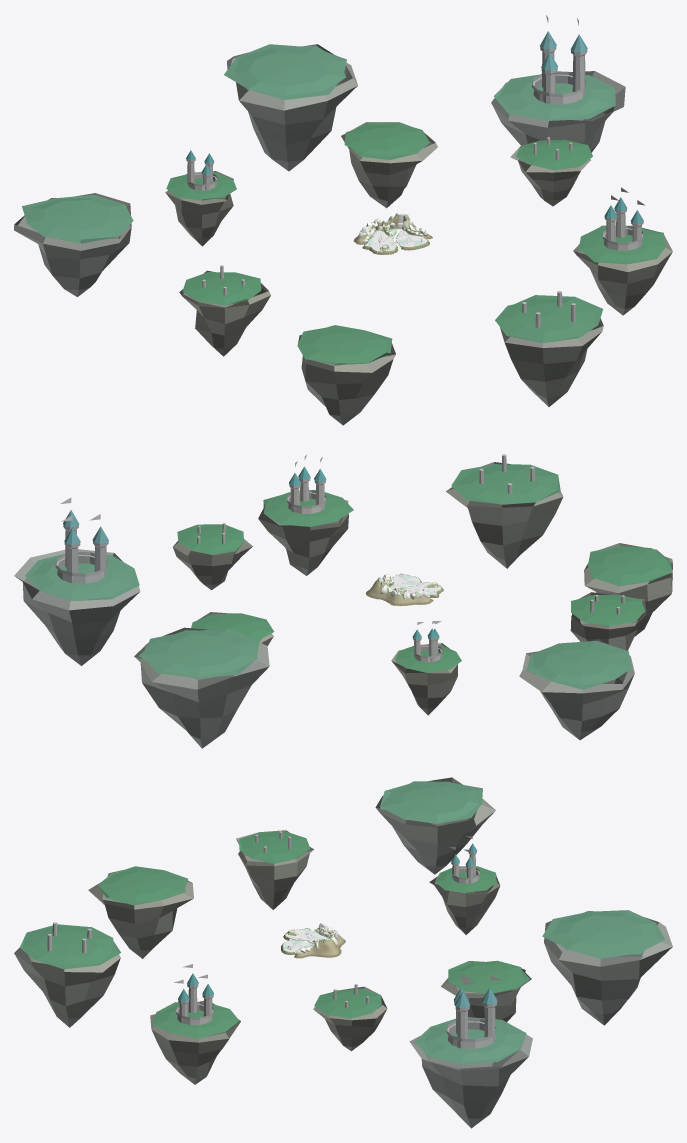
Rendered from world-v7-declutter.fbx.
3 views of the same model, one above another, from view 1: azimuth 30°, elevation 25°; view 2: azimuth 150°, elevation 25°; view 3: azimuth 270°, elevation 25° (orthographic). The views are drawn at different scales.
Parts seen in each view (by area): view 1: W7_Backdrop__far_peak_1, W7_Backdrop__far_peak_2, W7_Backdrop__far_peak_3, W7_Ground__ground, W7_Ground__grass; view 2: W7_Backdrop__far_peak_2, W7_Backdrop__far_peak_1, W7_Backdrop__far_peak_3, W7_Ground__ground, W7_Ground__grass; view 3: W7_Backdrop__far_peak_1, W7_Backdrop__far_peak_2, W7_Backdrop__far_peak_3, W7_Ground__ground, W7_Ground__grass.
Part boxes in pixels (left/top/right/bottom): W7_Backdrop__far_peak_1: left=179, top=137, right=672, bottom=425; W7_Backdrop__far_peak_2: left=165, top=31, right=625, bottom=246; W7_Backdrop__far_peak_3: left=14, top=193, right=133, bottom=296; W7_Ground__ground: left=353, top=214, right=432, bottom=254; W7_Ground__grass: left=363, top=214, right=427, bottom=251; W7_Backdrop__far_peak_2: left=14, top=510, right=461, bottom=748; W7_Backdrop__far_peak_1: left=173, top=454, right=672, bottom=650; W7_Backdrop__far_peak_3: left=519, top=639, right=634, bottom=740; W7_Ground__ground: left=365, top=574, right=443, bottom=605; W7_Ground__grass: left=379, top=574, right=441, bottom=595; W7_Backdrop__far_peak_1: left=14, top=830, right=387, bottom=1084; W7_Backdrop__far_peak_2: left=409, top=843, right=672, bottom=1128; W7_Backdrop__far_peak_3: left=375, top=777, right=495, bottom=874; W7_Ground__ground: left=281, top=927, right=345, bottom=958; W7_Ground__grass: left=282, top=926, right=336, bottom=952.
Size of the model in its own units: 251695 by 69528 by 252740.
